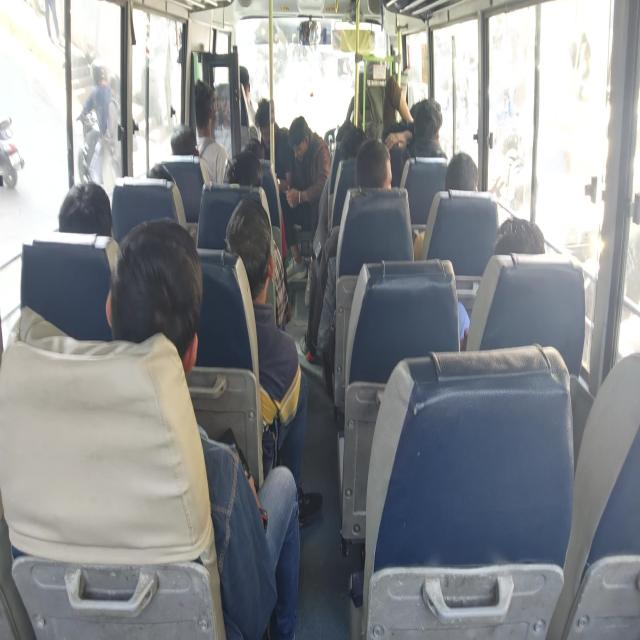person: (479, 219, 569, 311), (124, 232, 198, 328), (43, 174, 103, 236), (60, 178, 108, 242), (352, 150, 398, 192), (407, 90, 443, 141), (139, 150, 175, 200), (219, 208, 257, 255), (227, 140, 260, 189), (190, 81, 218, 135), (164, 119, 198, 157), (332, 112, 358, 157), (289, 108, 308, 160), (242, 128, 267, 161), (452, 153, 477, 183), (234, 63, 253, 99), (256, 98, 271, 132)
